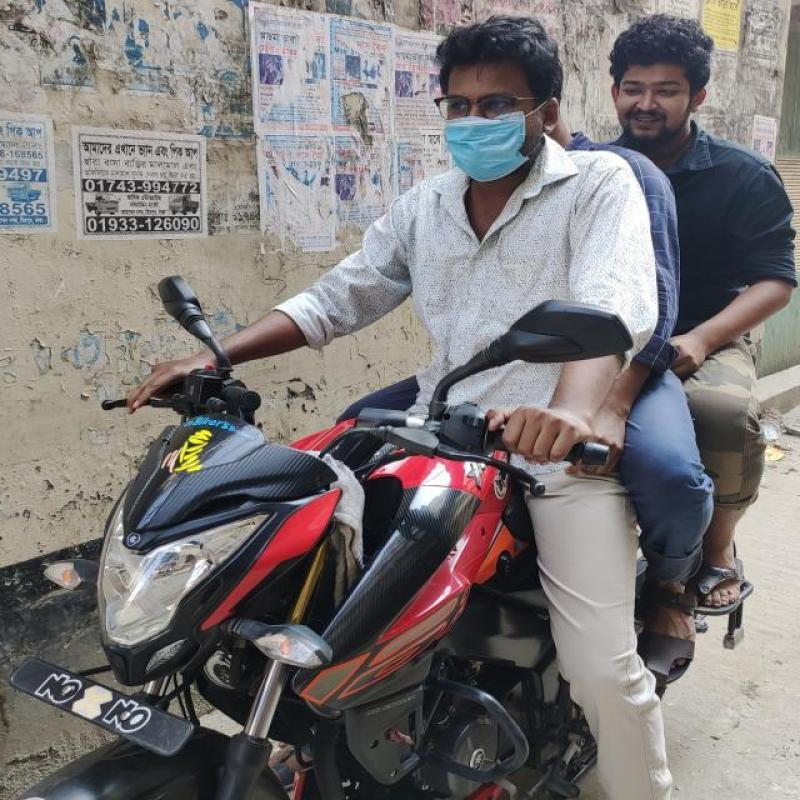nohelmet: (430, 8, 580, 202), (613, 6, 732, 146)
